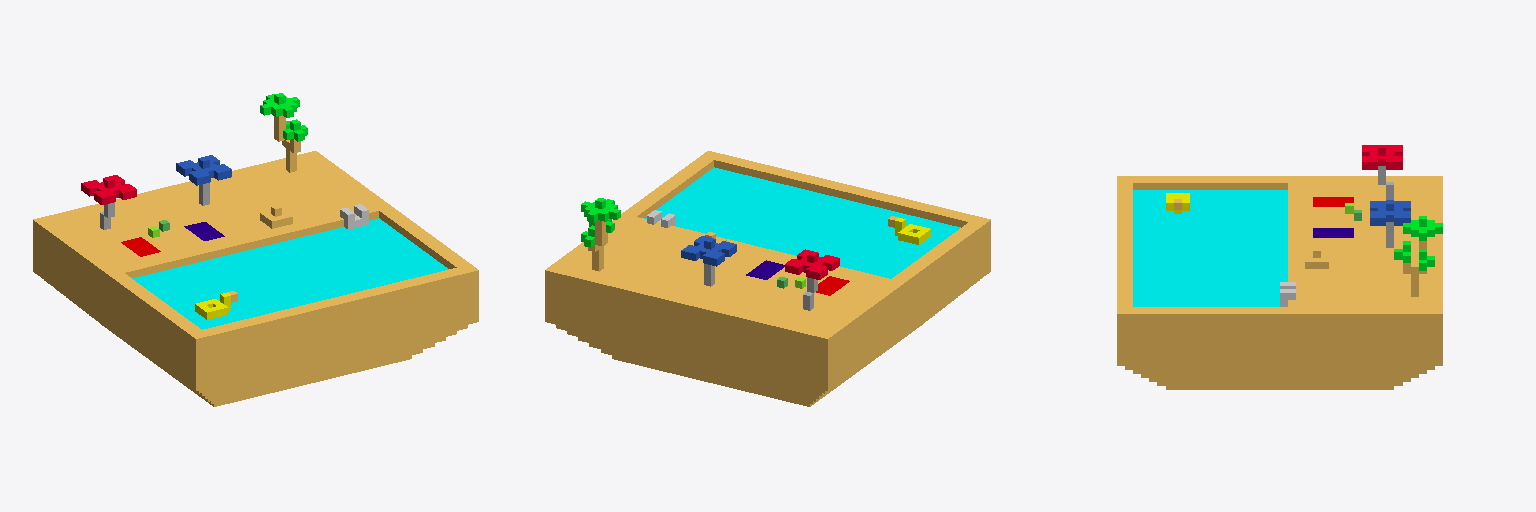
The picture shows the model from 3 angles: view 1: azimuth 30°, elevation 25°; view 2: azimuth 150°, elevation 25°; view 3: azimuth 270°, elevation 25°; orthographic projection.
Visible parts, largest first — view 1: beachtest; view 2: beachtest; view 3: beachtest.
Part boxes in pixels (x1,y1,x2,y2): beachtest: (33,93,478,406); beachtest: (545,151,990,406); beachtest: (1117,145,1442,389).
Size of the model in its own units: 40 by 23 by 40.
1 materials, 1 textured.